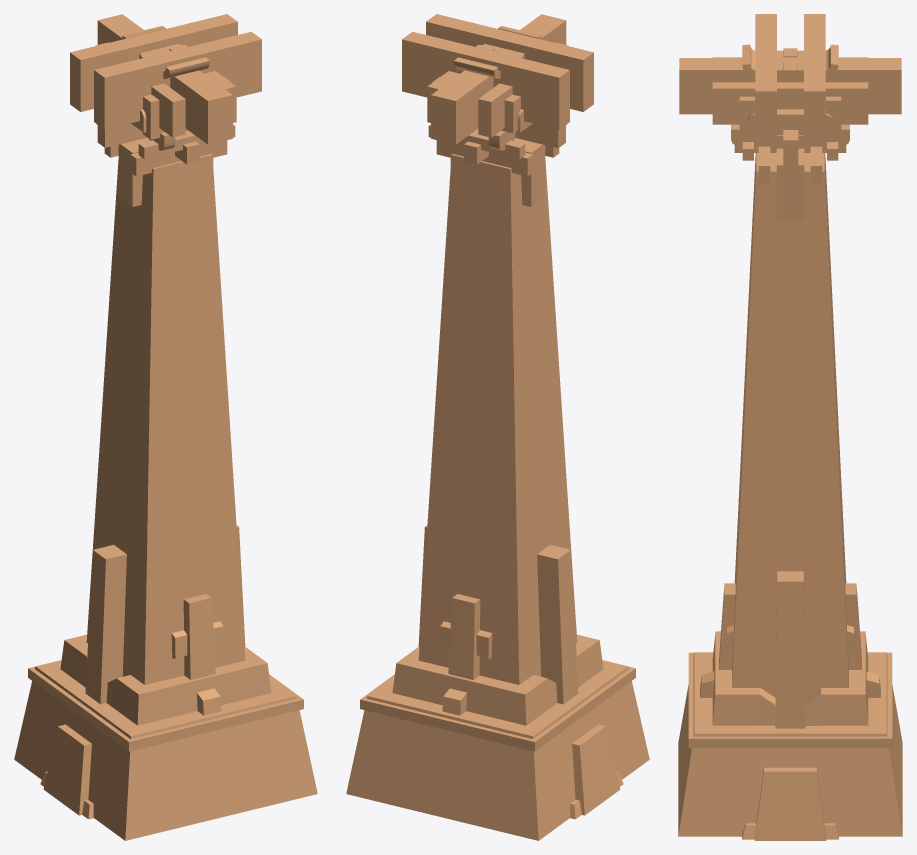
The model's file is SM_PillarH_01.fbx.
The picture shows the model from 3 angles, left to right: view 1: azimuth 30°, elevation 25°; view 2: azimuth 150°, elevation 25°; view 3: azimuth 270°, elevation 25°; orthographic projection.
Visible parts, largest first — view 1: Cube.054; view 2: Cube.054; view 3: Cube.054.
Boxes of the visible parts, <box> form: Cube.054: <box>14,14,317,840</box>; Cube.054: <box>346,14,649,840</box>; Cube.054: <box>678,14,902,840</box>.
Bounding box in the file's own units: 0.4343 × 1.45 × 0.3994.
